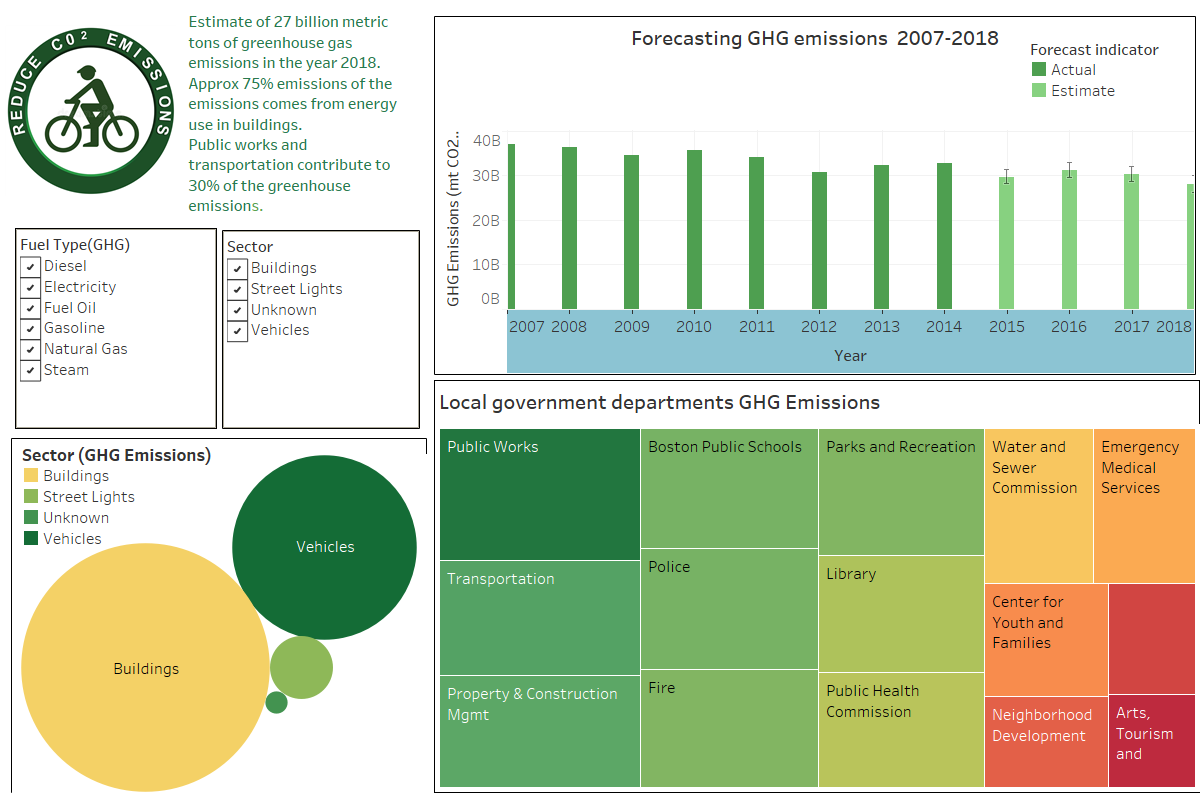

The dashboard page shown, as its layout file describes it:
{"tool":"tableau","page":{"name":"Dashboard 1","canvas":[1200,800],"ordinal":0},"visuals":[{"type":"image","param":"C:/Users/kruts/Documents/My Tableau Repository/Shapes/Weather/greenhouse.png","box":[5,6,171,210]},{"type":"title","box":[181,6,236,220]},{"type":"text","box":[8,8,1184,784]},{"type":"worksheet","title":"GHG Gas Emissions 2007-2018","mark":"Bar","rows":["GHG Emissions (mt CO2e)"],"cols":["Year (local-government-operations-fue)"],"box":[434,16,762,359]},{"type":"legend","title":"GHG Gas Emissions 2007-2018","param":"[federated.04i75mg0yvuw1m1598st20vc5nsp].[none:Forecast Indicator:nk]","box":[1029,37,147,92]},{"type":"filter","title":"Local government departments GHG Emissions","param":"[federated.04i75mg0yvuw1m1598st20vc5nsp].[none:Fuel Type (local-government-opera","box":[15,228,202,201]},{"type":"filter","title":"Local government departments GHG Emissions","param":"[federated.04i75mg0yvuw1m1598st20vc5nsp].[none:Sector (local-government-operatio","box":[222,230,198,199]},{"type":"worksheet","title":"Local government departments GHG Emissions","mark":"Automatic","box":[434,380,766,413]},{"type":"worksheet","title":"GHG Emissions Sector-wise","mark":"Circle","box":[11,438,416,355]},{"type":"legend","title":"GHG Emissions Sector-wise","param":"[federated.04i75mg0yvuw1m1598st20vc5nsp].[none:Sector (local-government-operatio","box":[21,441,216,110]}]}

Visuals, with their boxes in screenshot pixels (x1, y1, x2, y2), scaled from the page's 1200x800 canvas onto the 1200x800 screenshot:
image: 5 6 176 216
title: 181 6 417 226
text: 8 8 1192 792
"GHG Gas Emissions 2007-2018" worksheet (Bar marks): 434 16 1196 375
"GHG Gas Emissions 2007-2018" legend: 1029 37 1176 129
"Local government departments GHG Emissions" filter: 15 228 217 429
"Local government departments GHG Emissions" filter: 222 230 420 429
"Local government departments GHG Emissions" worksheet: 434 380 1199 793
"GHG Emissions Sector-wise" worksheet (Circle marks): 11 438 427 793
"GHG Emissions Sector-wise" legend: 21 441 237 551
